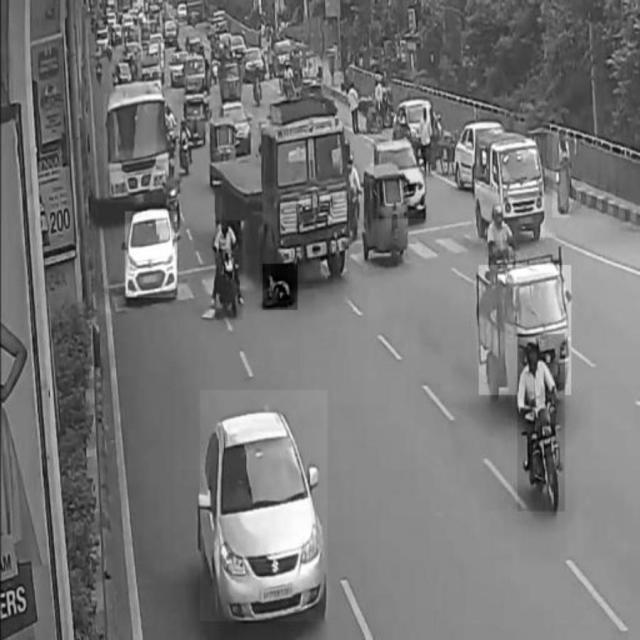person: (263, 264, 298, 310), (553, 130, 570, 218)
vehicle: (200, 390, 328, 621), (261, 123, 349, 283), (479, 266, 571, 396), (518, 334, 565, 511), (104, 94, 172, 202), (476, 140, 544, 241), (362, 169, 408, 267), (126, 212, 178, 298), (374, 140, 426, 218), (216, 220, 243, 321)
